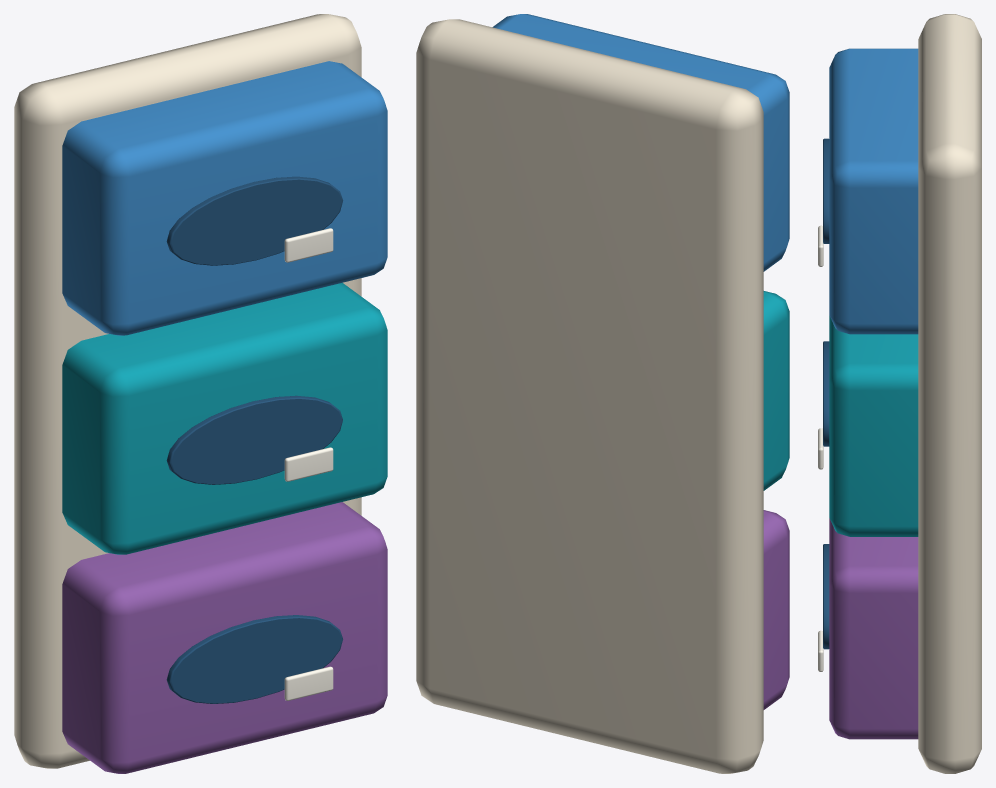
File: Endoscopy_Glove_Dispenser.glb
The picture shows the model from 3 angles, left to right: view 1: azimuth 30°, elevation 25°; view 2: azimuth 150°, elevation 25°; view 3: azimuth 270°, elevation 25°; orthographic projection. The views are drawn at different scales.
Parts seen in each view (by area): view 1: Endoscopy_Glove_Dispenser__Visual; view 2: Endoscopy_Glove_Dispenser__Visual; view 3: Endoscopy_Glove_Dispenser__Visual.
Boxes of the visible parts, left/top/right/bottom form: Endoscopy_Glove_Dispenser__Visual: left=14, top=14, right=387, bottom=773; Endoscopy_Glove_Dispenser__Visual: left=416, top=14, right=789, bottom=773; Endoscopy_Glove_Dispenser__Visual: left=818, top=14, right=981, bottom=773.
Bounding box in the file's own units: 0.316 × 0.612 × 0.1445.
1 material, 1 textured.
